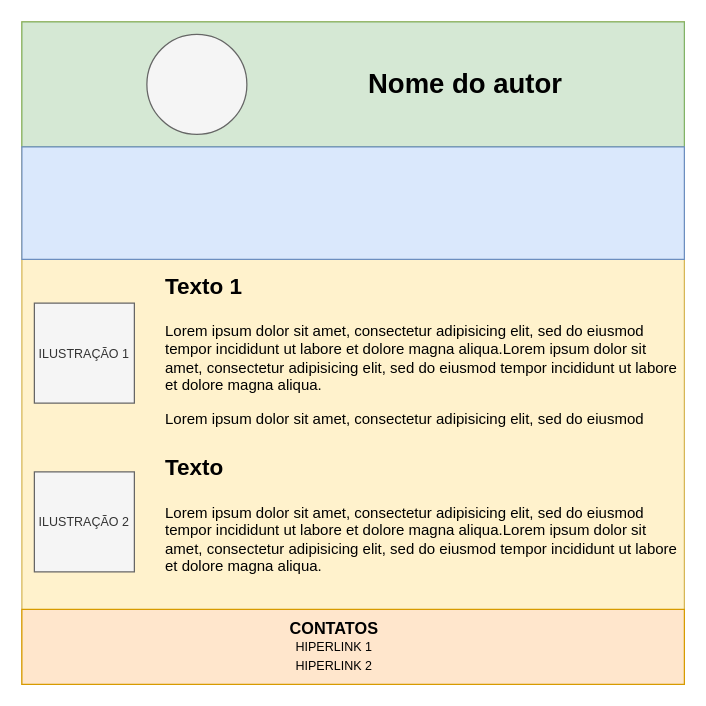
Image size: 706x706. Some labels were removed from this diagram. Each missing label, with the centre of its shape:
"FOTO DO AUTOR" belongs at point (196, 83).
"Tema" belongs at point (352, 202).
